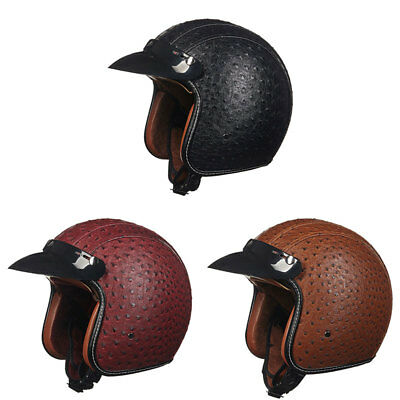with_helmet: (118, 17, 295, 189), (214, 214, 393, 381), (18, 216, 194, 385)
